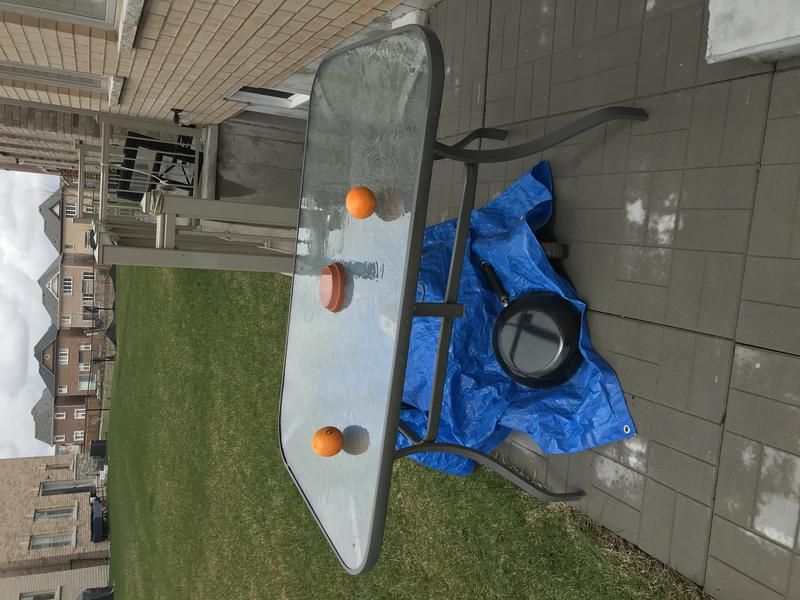orange: (339, 180, 382, 225), (308, 423, 349, 462)
